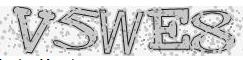5: (52, 7, 100, 52)
8: (190, 9, 237, 53)
E: (145, 7, 191, 52)
V: (12, 5, 56, 54)
W: (99, 8, 146, 56)
